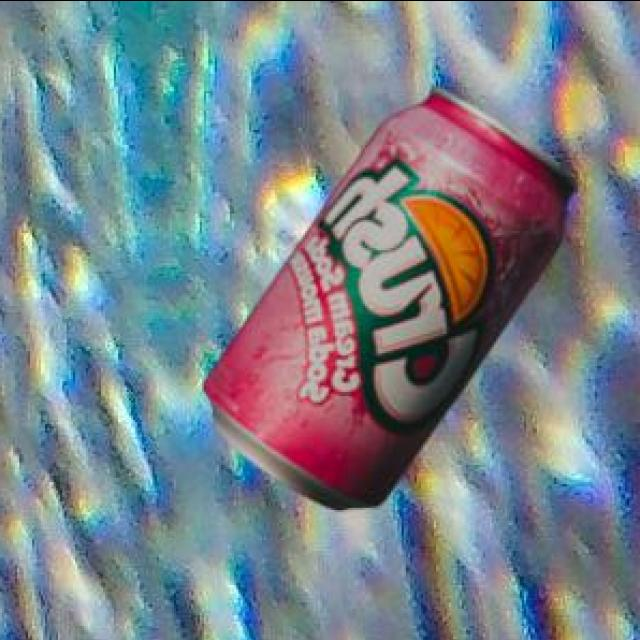logam: (207, 89, 579, 512)
